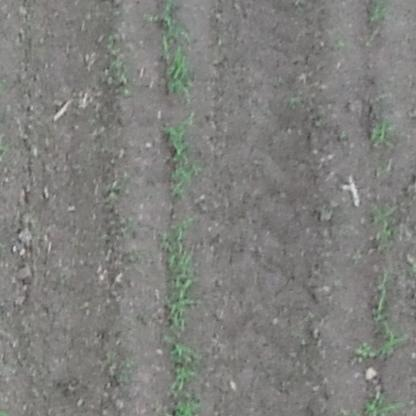corn: (163, 112, 200, 201), (169, 337, 201, 393), (166, 46, 196, 98), (379, 320, 407, 364), (369, 117, 396, 145)
